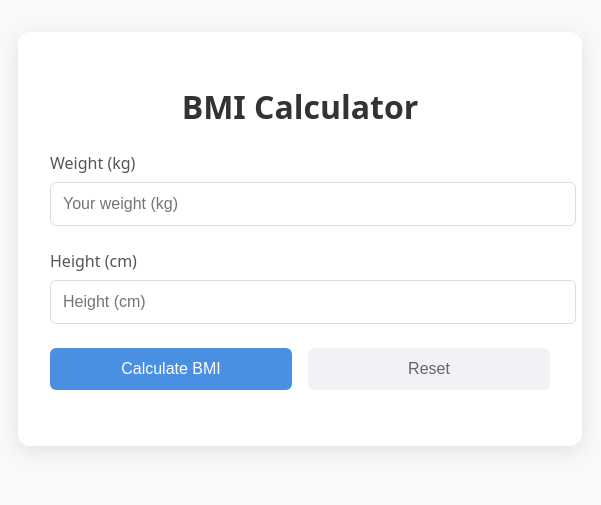
BMI Calculator › does not calculate BMI for empty values
Click the button "Calculate BMI" at (171, 369), box [50,348,292,390]
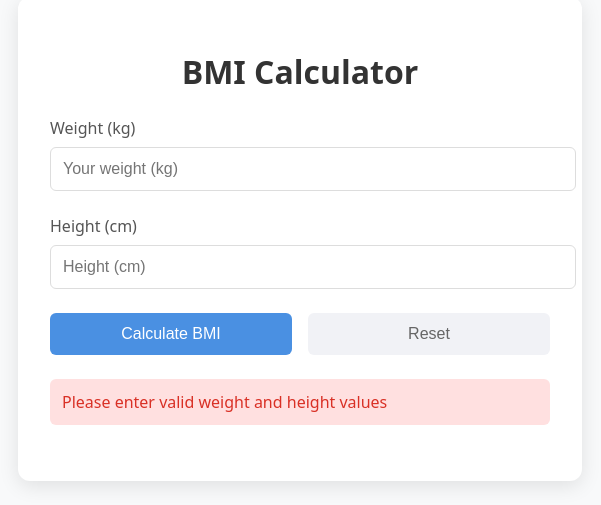
Check: the text "Please enter valid weight and height values" is shown, box [50,379,550,425]
